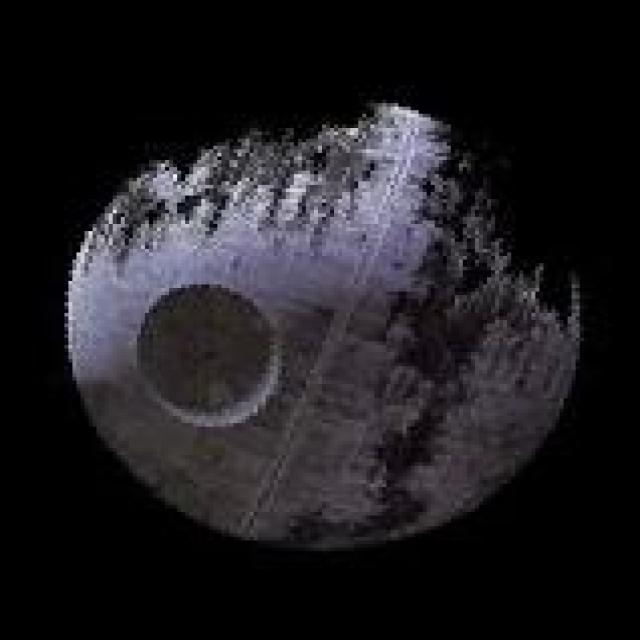Death Star: (56, 92, 592, 554)
